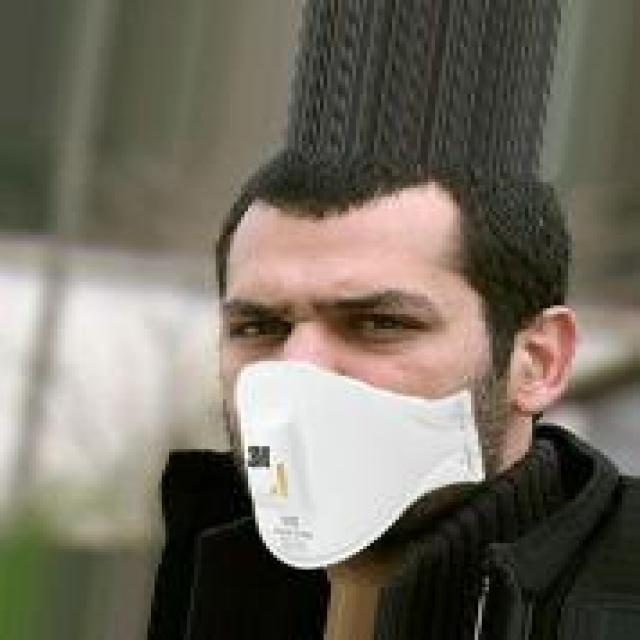mask: (144, 97, 554, 575)
